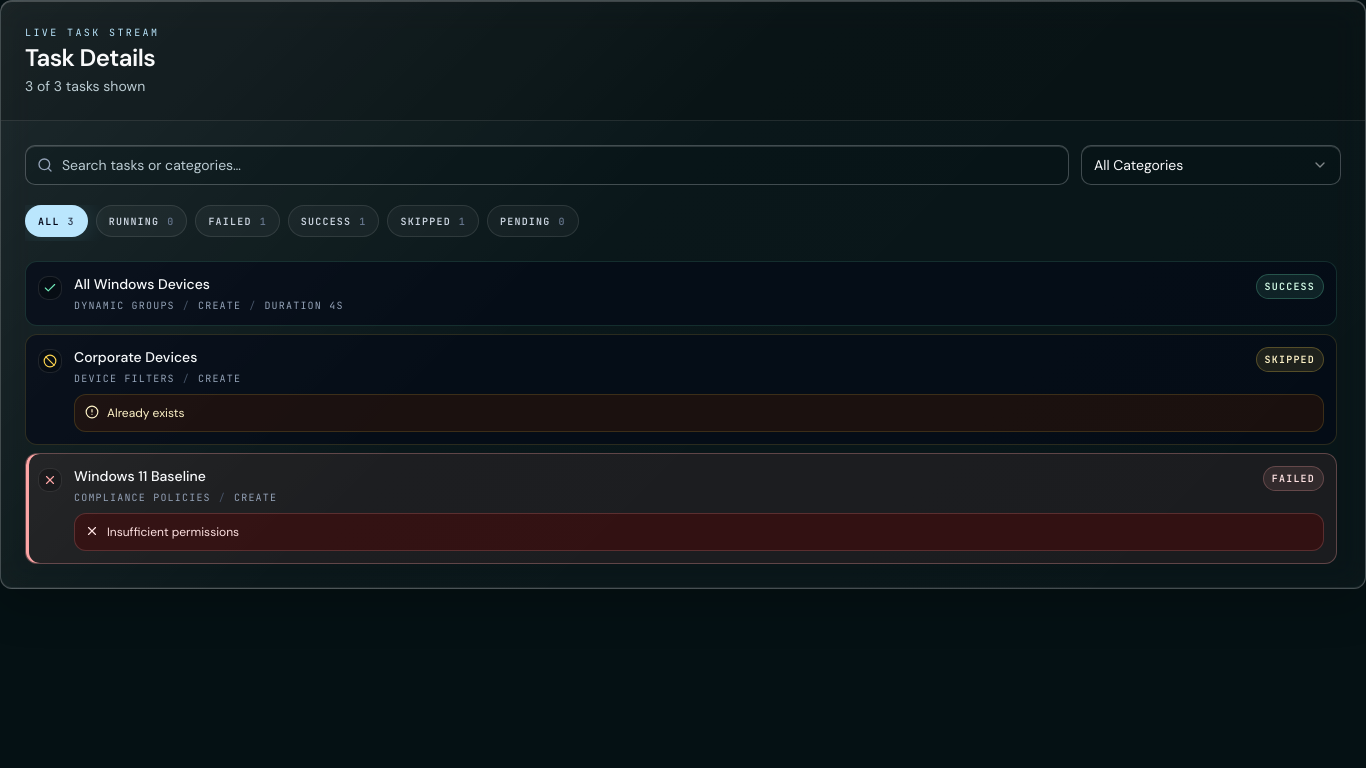
Scenario: TaskList › supports filtering by status and category and shows an empty state when nothing matches
Click the button with aria-label "Failed: 1 task". click: (238, 221)
box: [195, 205, 280, 237]
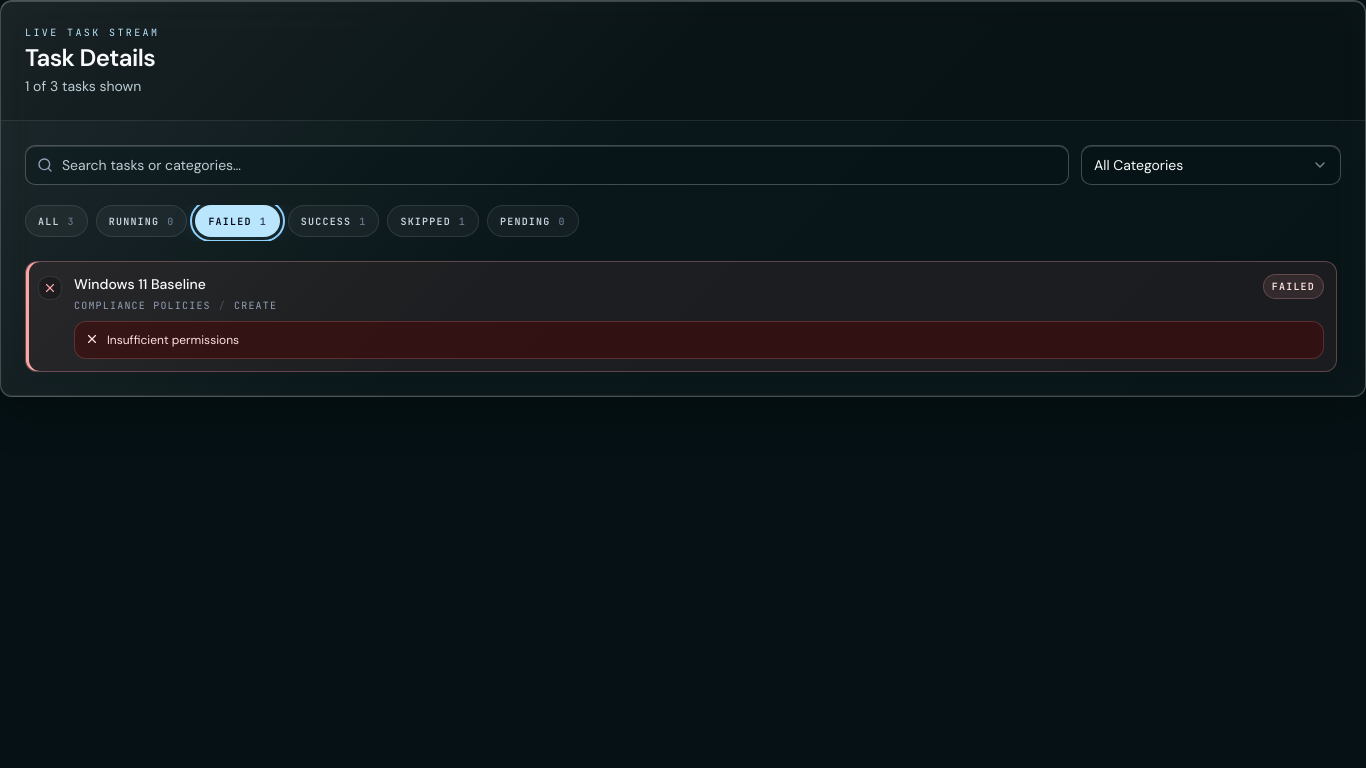
Check: the text "Windows 11 Baseline" is shown, box [74, 275, 206, 293]
Check: the text "Corporate Devices" is gone
Click the dropdown named "Filter tasks by category". click: (1139, 165)
box: [1081, 145, 1341, 185]
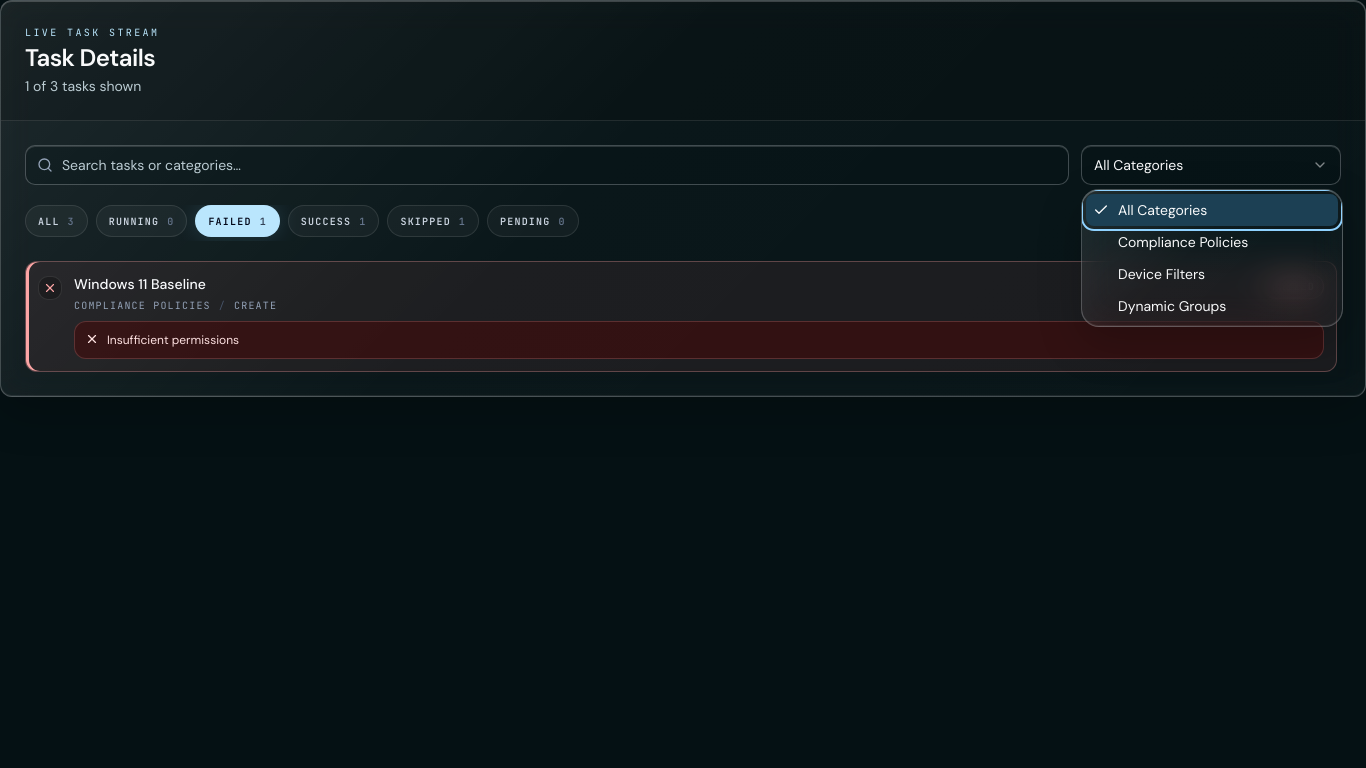
Click the option "Device Filters". click: (1162, 274)
box: [1118, 265, 1205, 283]
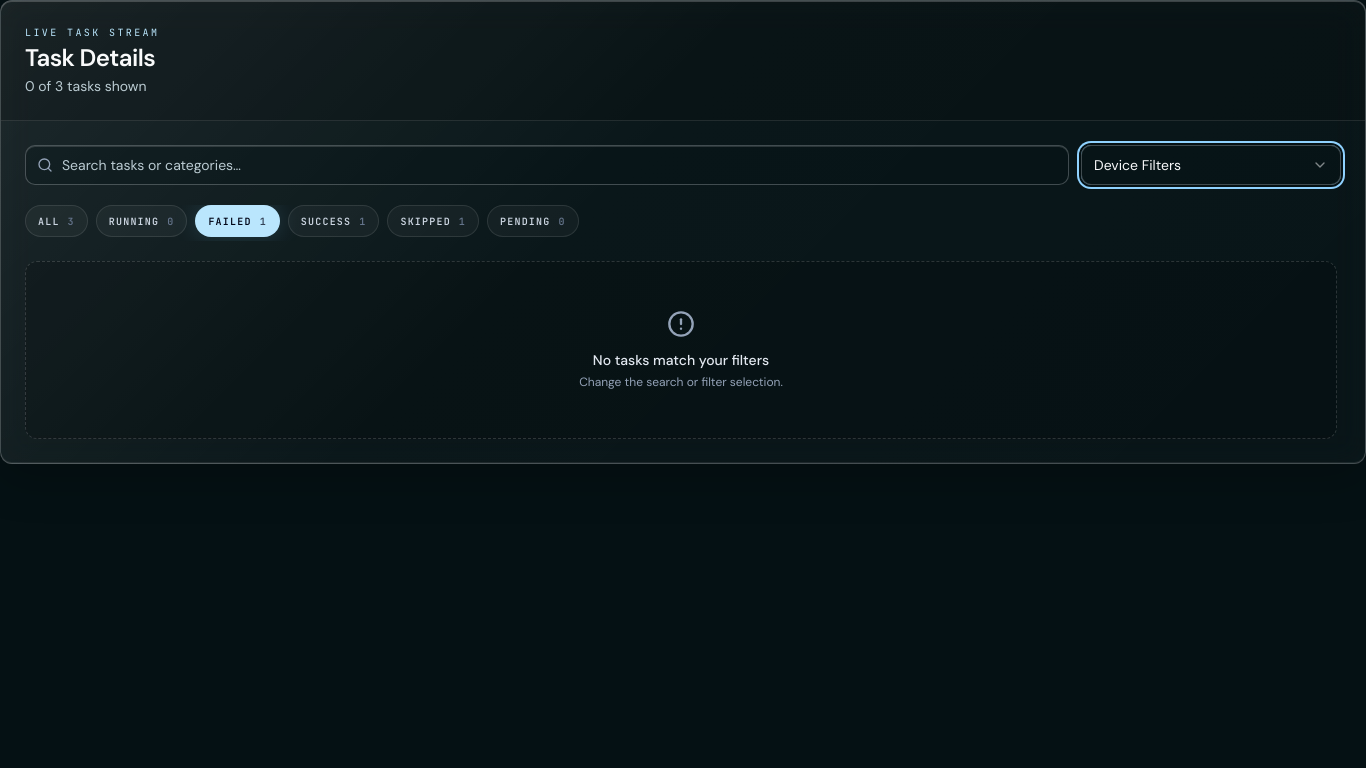
Check: the text "No tasks match your filters" is shown, box [593, 350, 769, 370]
